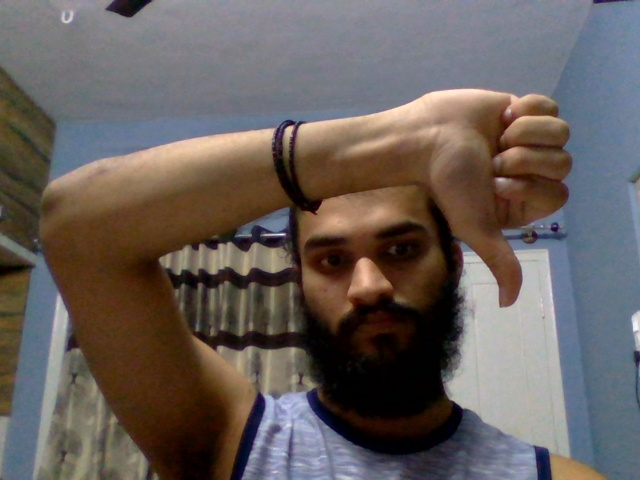ThumbsDown: (425, 86, 577, 308)
